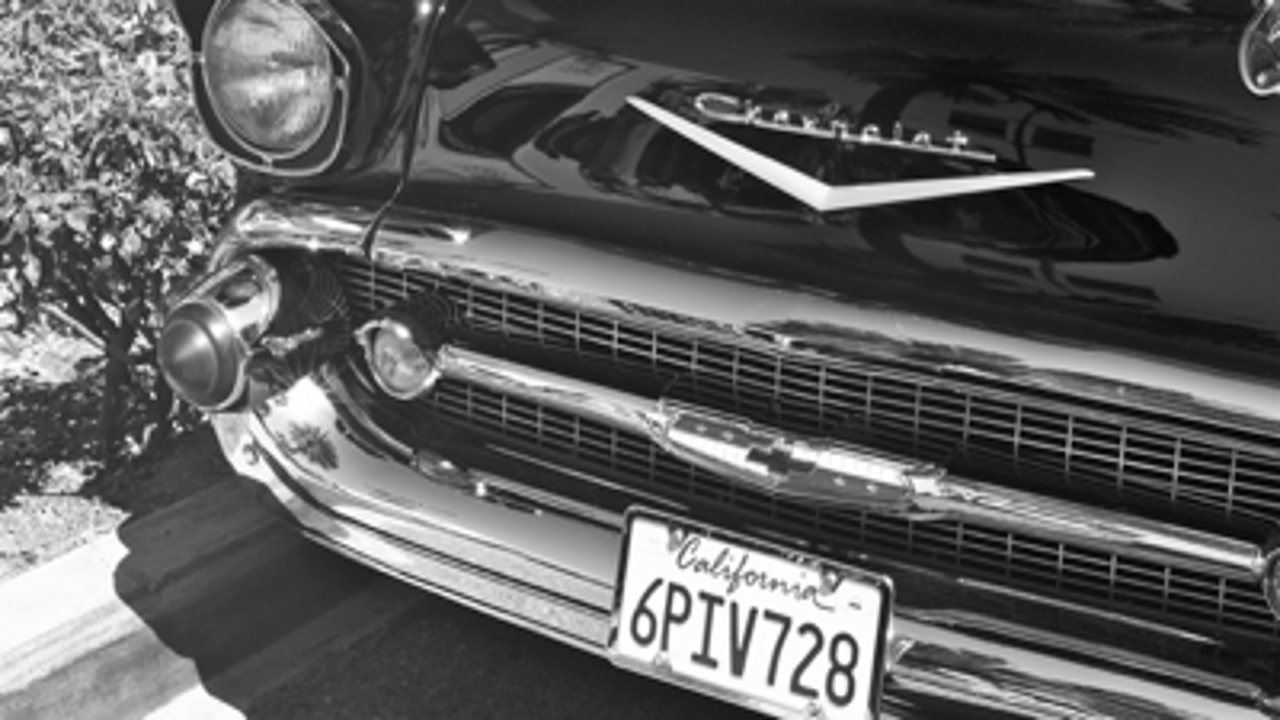license: (594, 496, 909, 720)
